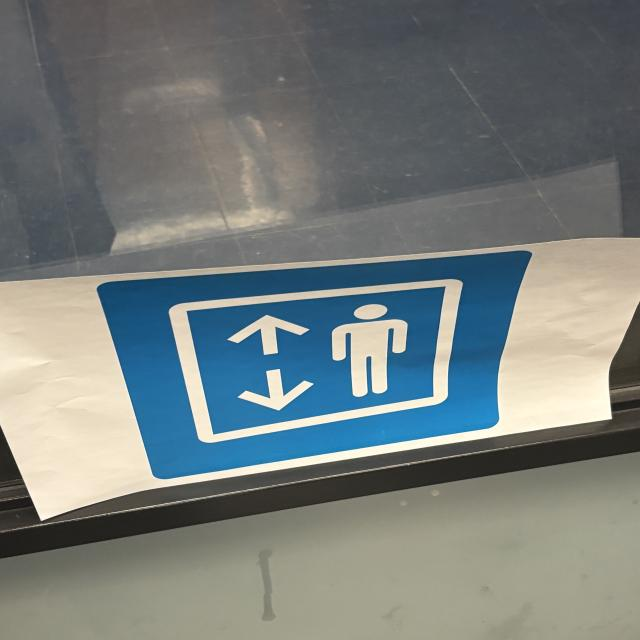elevator: (102, 253, 532, 480)
